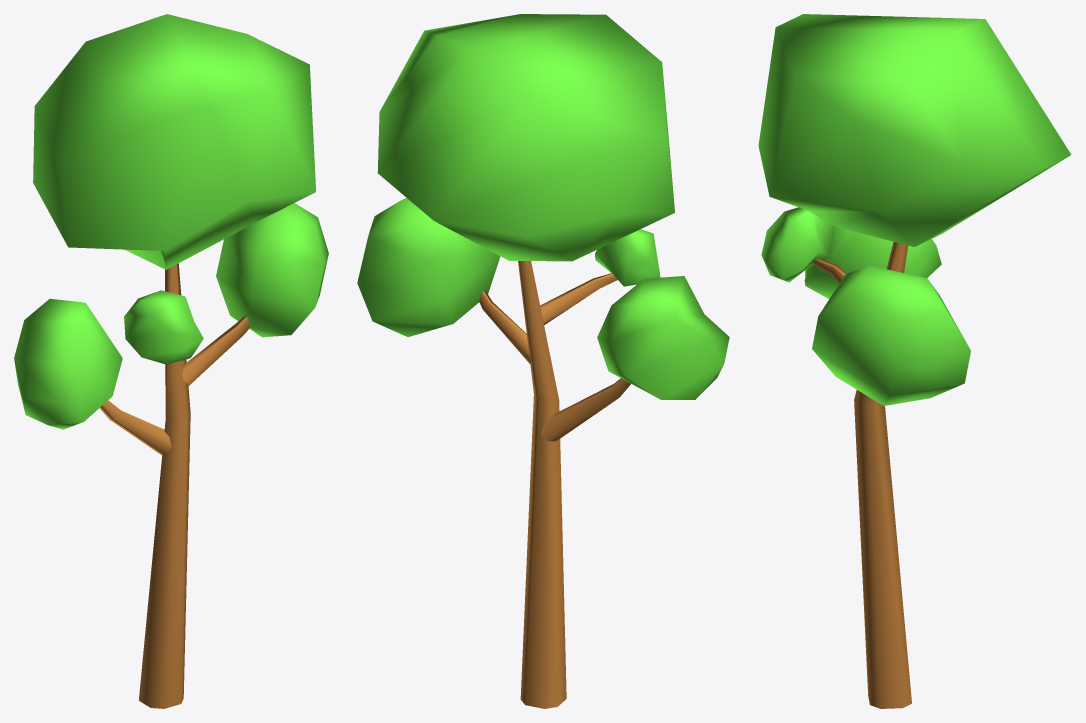
File: tree-3.fbx
The picture shows the model from 3 angles, left to right: view 1: azimuth 30°, elevation 25°; view 2: azimuth 150°, elevation 25°; view 3: azimuth 270°, elevation 25°; orthographic projection. The views are drawn at different scales.
Visible parts, largest first — view 1: tree_1.006; view 2: tree_1.006; view 3: tree_1.006.
Boxes of the visible parts, x1,y1,x2,y2 form: tree_1.006: (14, 14, 328, 708); tree_1.006: (357, 14, 729, 708); tree_1.006: (758, 14, 1071, 708).
Bounding box in the file's own units: 479 × 909 × 375.
